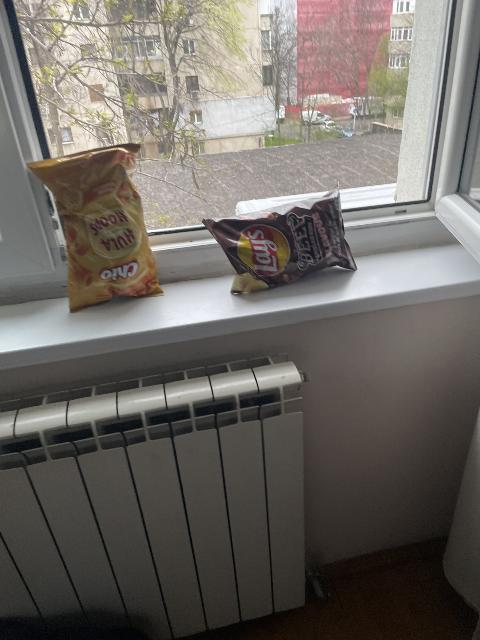Chio Hula Hoops Cheese 70g: (24, 145, 164, 314)
Lays Beef Grilled Ribs 125g: (200, 184, 356, 294)
